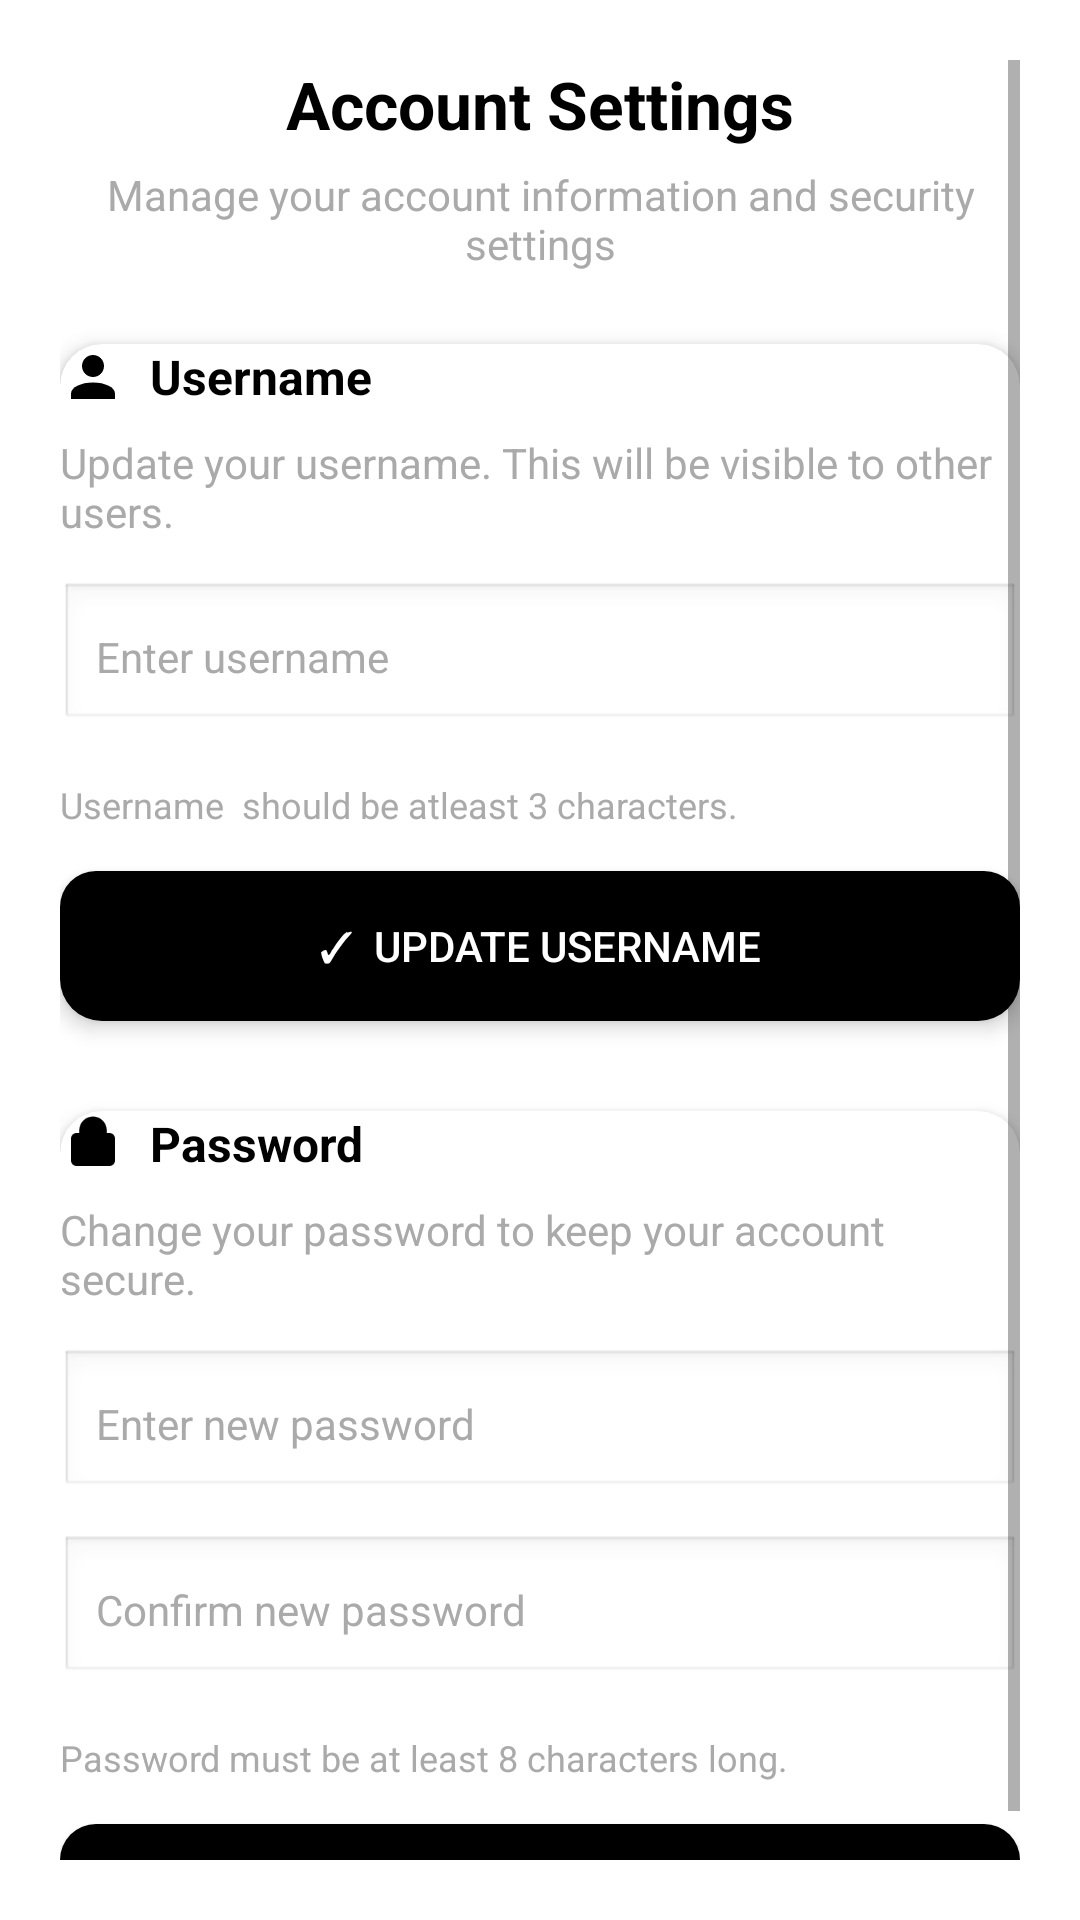

Point at icon controls on the screen. Image size 1080*1920, points as (x=x, y=y).
lock: (x=87, y=1141)
person: (x=87, y=376)
